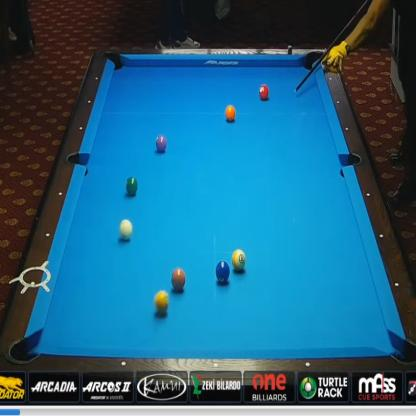Ball: (154, 290, 170, 314), (171, 267, 185, 293), (215, 260, 230, 284), (232, 249, 246, 271), (119, 219, 132, 240), (125, 176, 138, 196), (155, 134, 167, 152), (225, 104, 236, 122), (259, 84, 269, 100)
